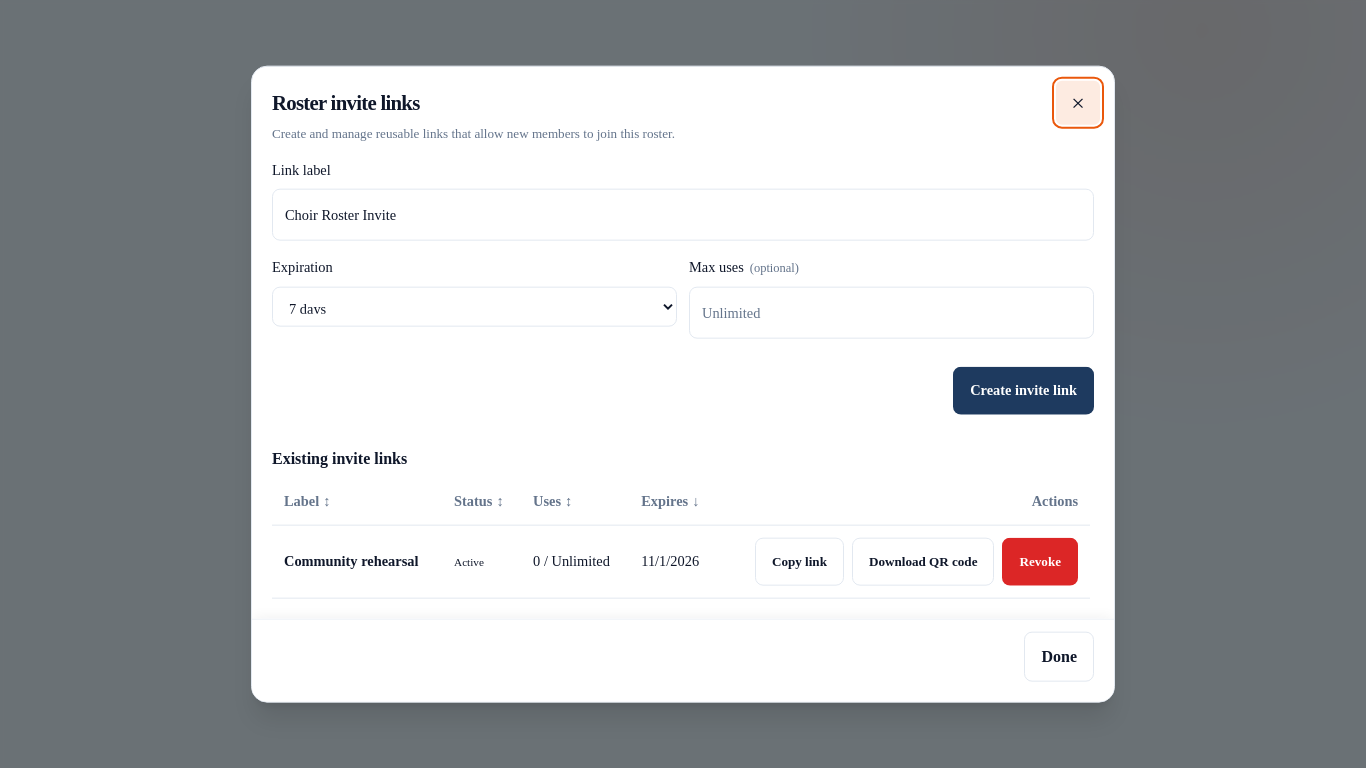
it: roster invite QR download › downloads a PNG using the unmodified sharing URL
Click the button "Download QR code": (923, 561) [852,537,994,585]
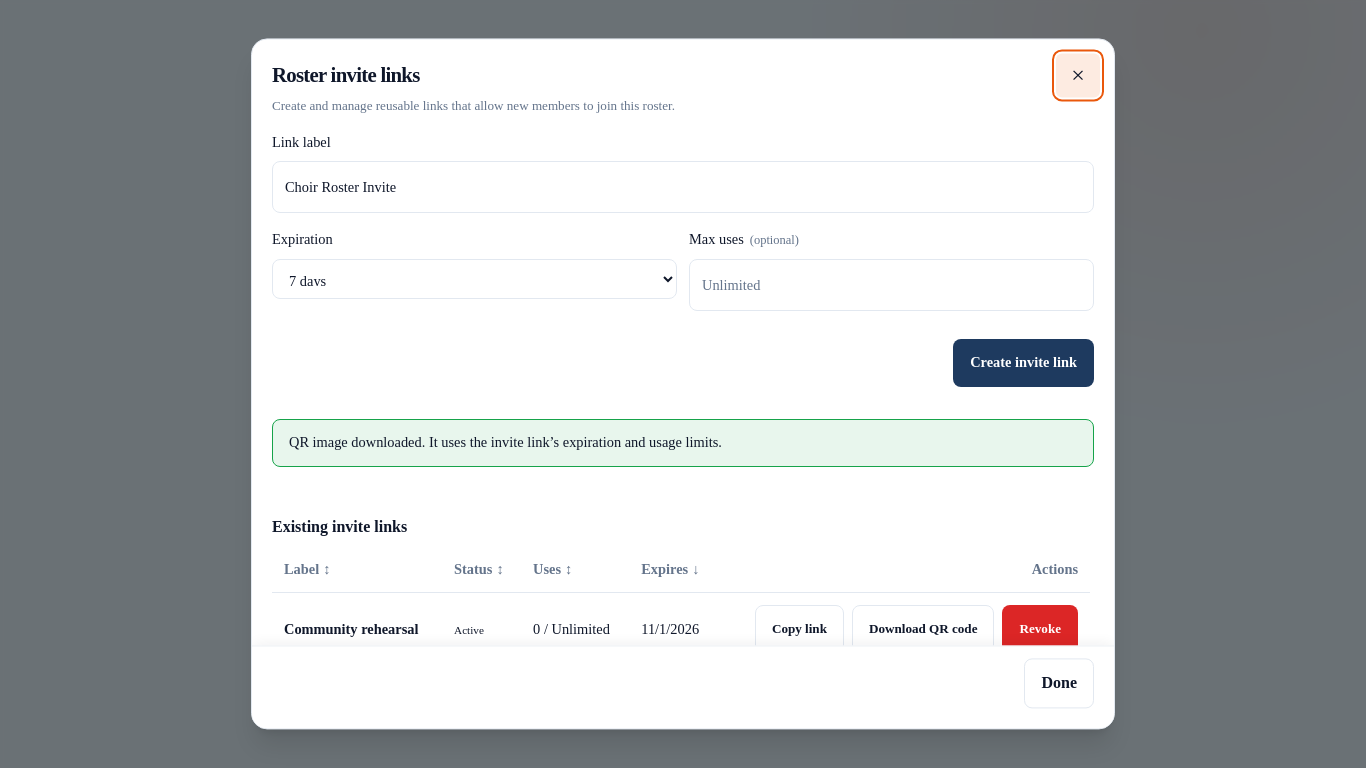
Result: the message shows "QR image downloaded" at [289,434,722,450]
